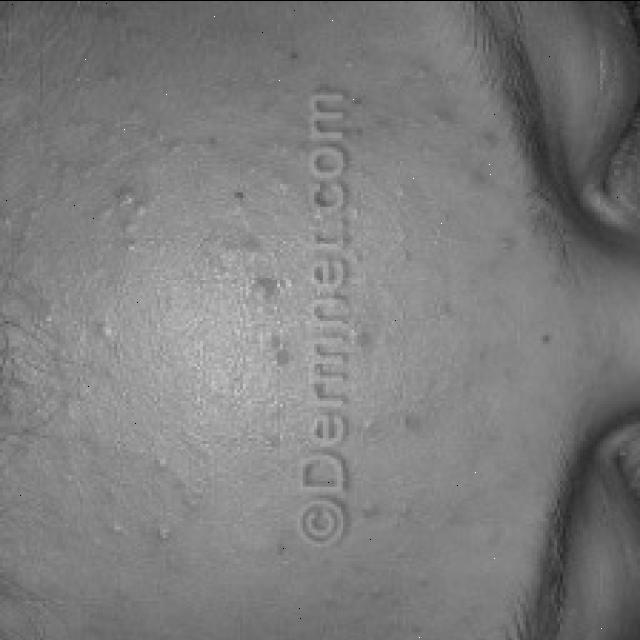Acne: (1, 36, 447, 585)
